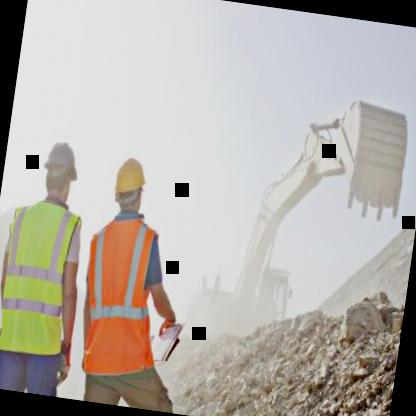helmet: (34, 130, 84, 209), (107, 146, 152, 221)
